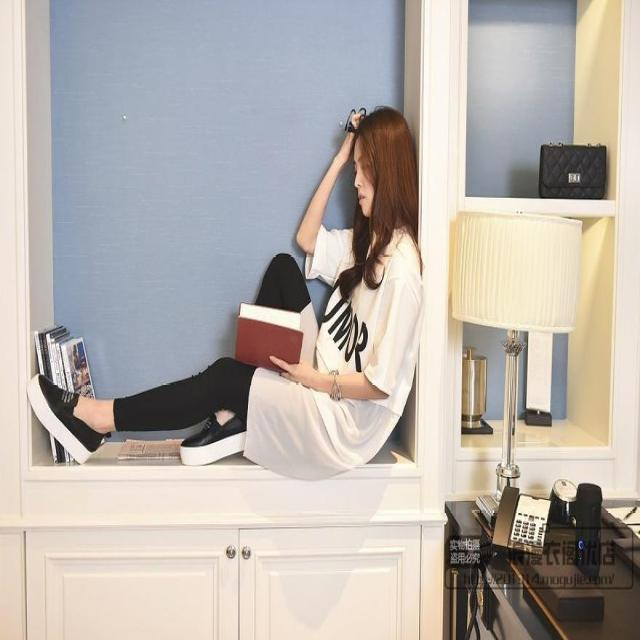short-sleeve-top: (340, 209, 414, 444)
